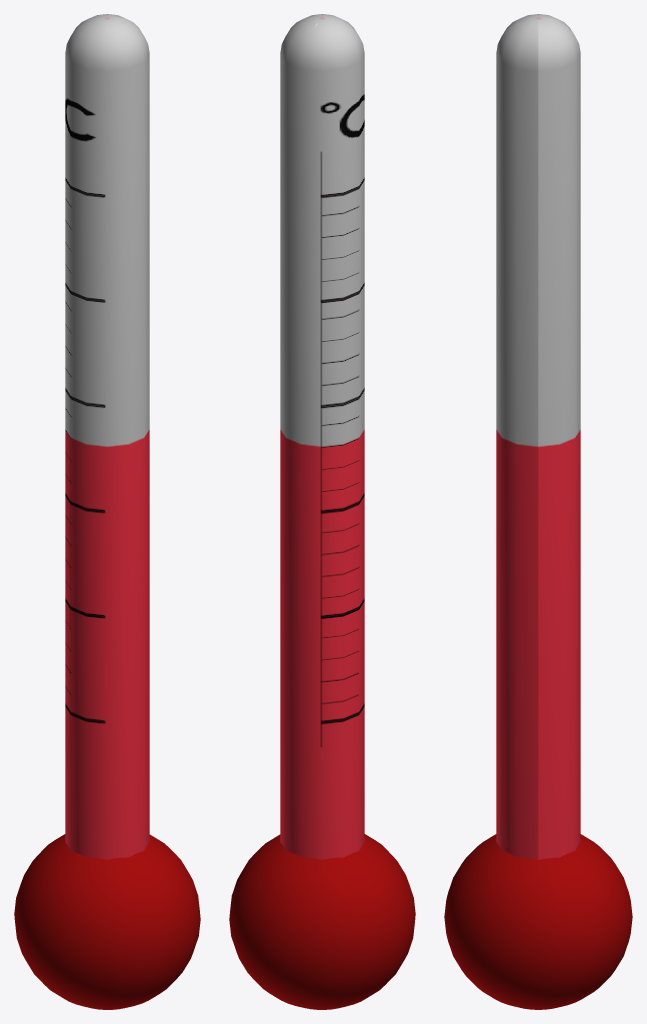
Rendered from wenduji.obj.
3 views of the same model, side by side, from view 1: azimuth 30°, elevation 25°; view 2: azimuth 150°, elevation 25°; view 3: azimuth 270°, elevation 25° (orthographic).
Visible parts, largest first — view 1: Capsule001, Sphere001; view 2: Capsule001, Sphere001; view 3: Capsule001, Sphere001.
Boxes of the visible parts, x1=… form: Capsule001: x1=65, y1=14, x2=149, y2=859; Sphere001: x1=14, y1=834, x2=200, y2=1009; Capsule001: x1=280, y1=14, x2=364, y2=859; Sphere001: x1=229, y1=834, x2=415, y2=1009; Capsule001: x1=496, y1=14, x2=580, y2=859; Sphere001: x1=444, y1=834, x2=632, y2=1009.
Size of the model in its own units: 0.5342 by 3.11 by 0.5402.
2 materials, 1 textured.
